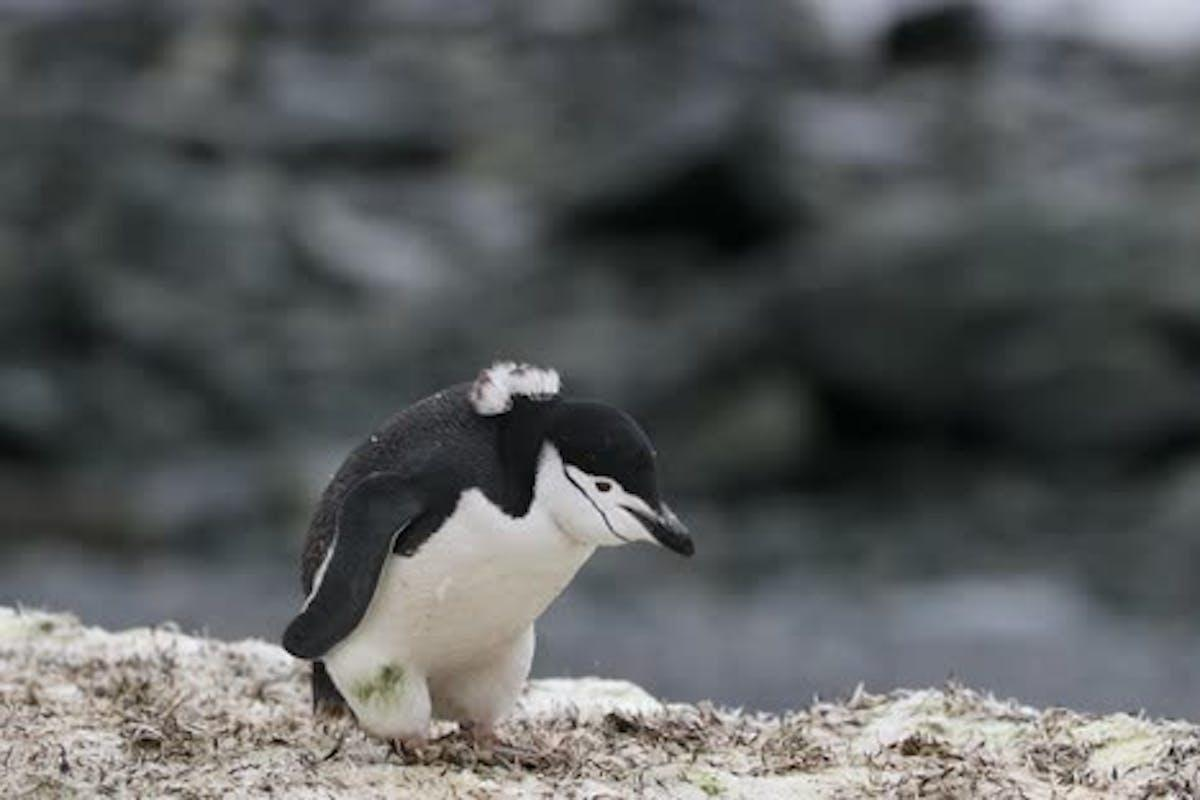chinstrap: (287, 329, 725, 762)
